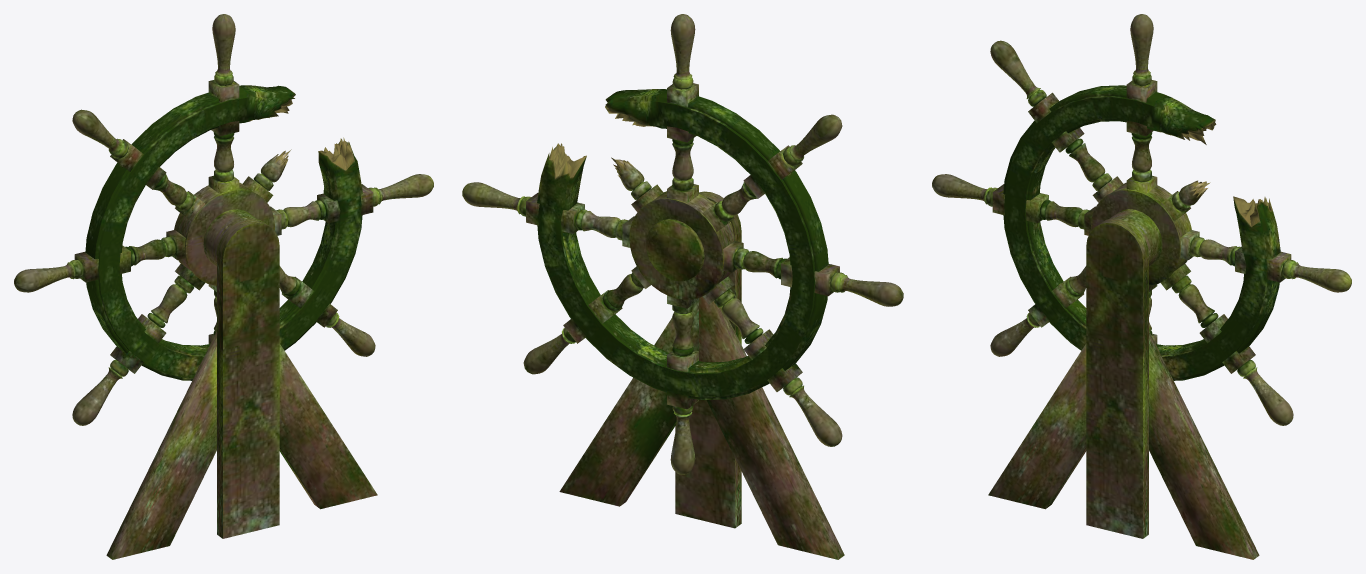
Rendered from wreck-wheel.glb.
3 renders of one model, left to right at view 1: azimuth 30°, elevation 25°; view 2: azimuth 150°, elevation 25°; view 3: azimuth 330°, elevation 25°, orthographic. The views are drawn at different scales.
Parts seen in each view (by area): view 1: shipWheel; view 2: shipWheel; view 3: shipWheel.
Part boxes in pixels (x1,y1,x2,y2): shipWheel: (14, 14, 433, 559); shipWheel: (462, 14, 903, 559); shipWheel: (932, 14, 1351, 559).
Size of the model in its own units: 2.07 by 2.35 by 0.3103.
1 material, 1 textured.
